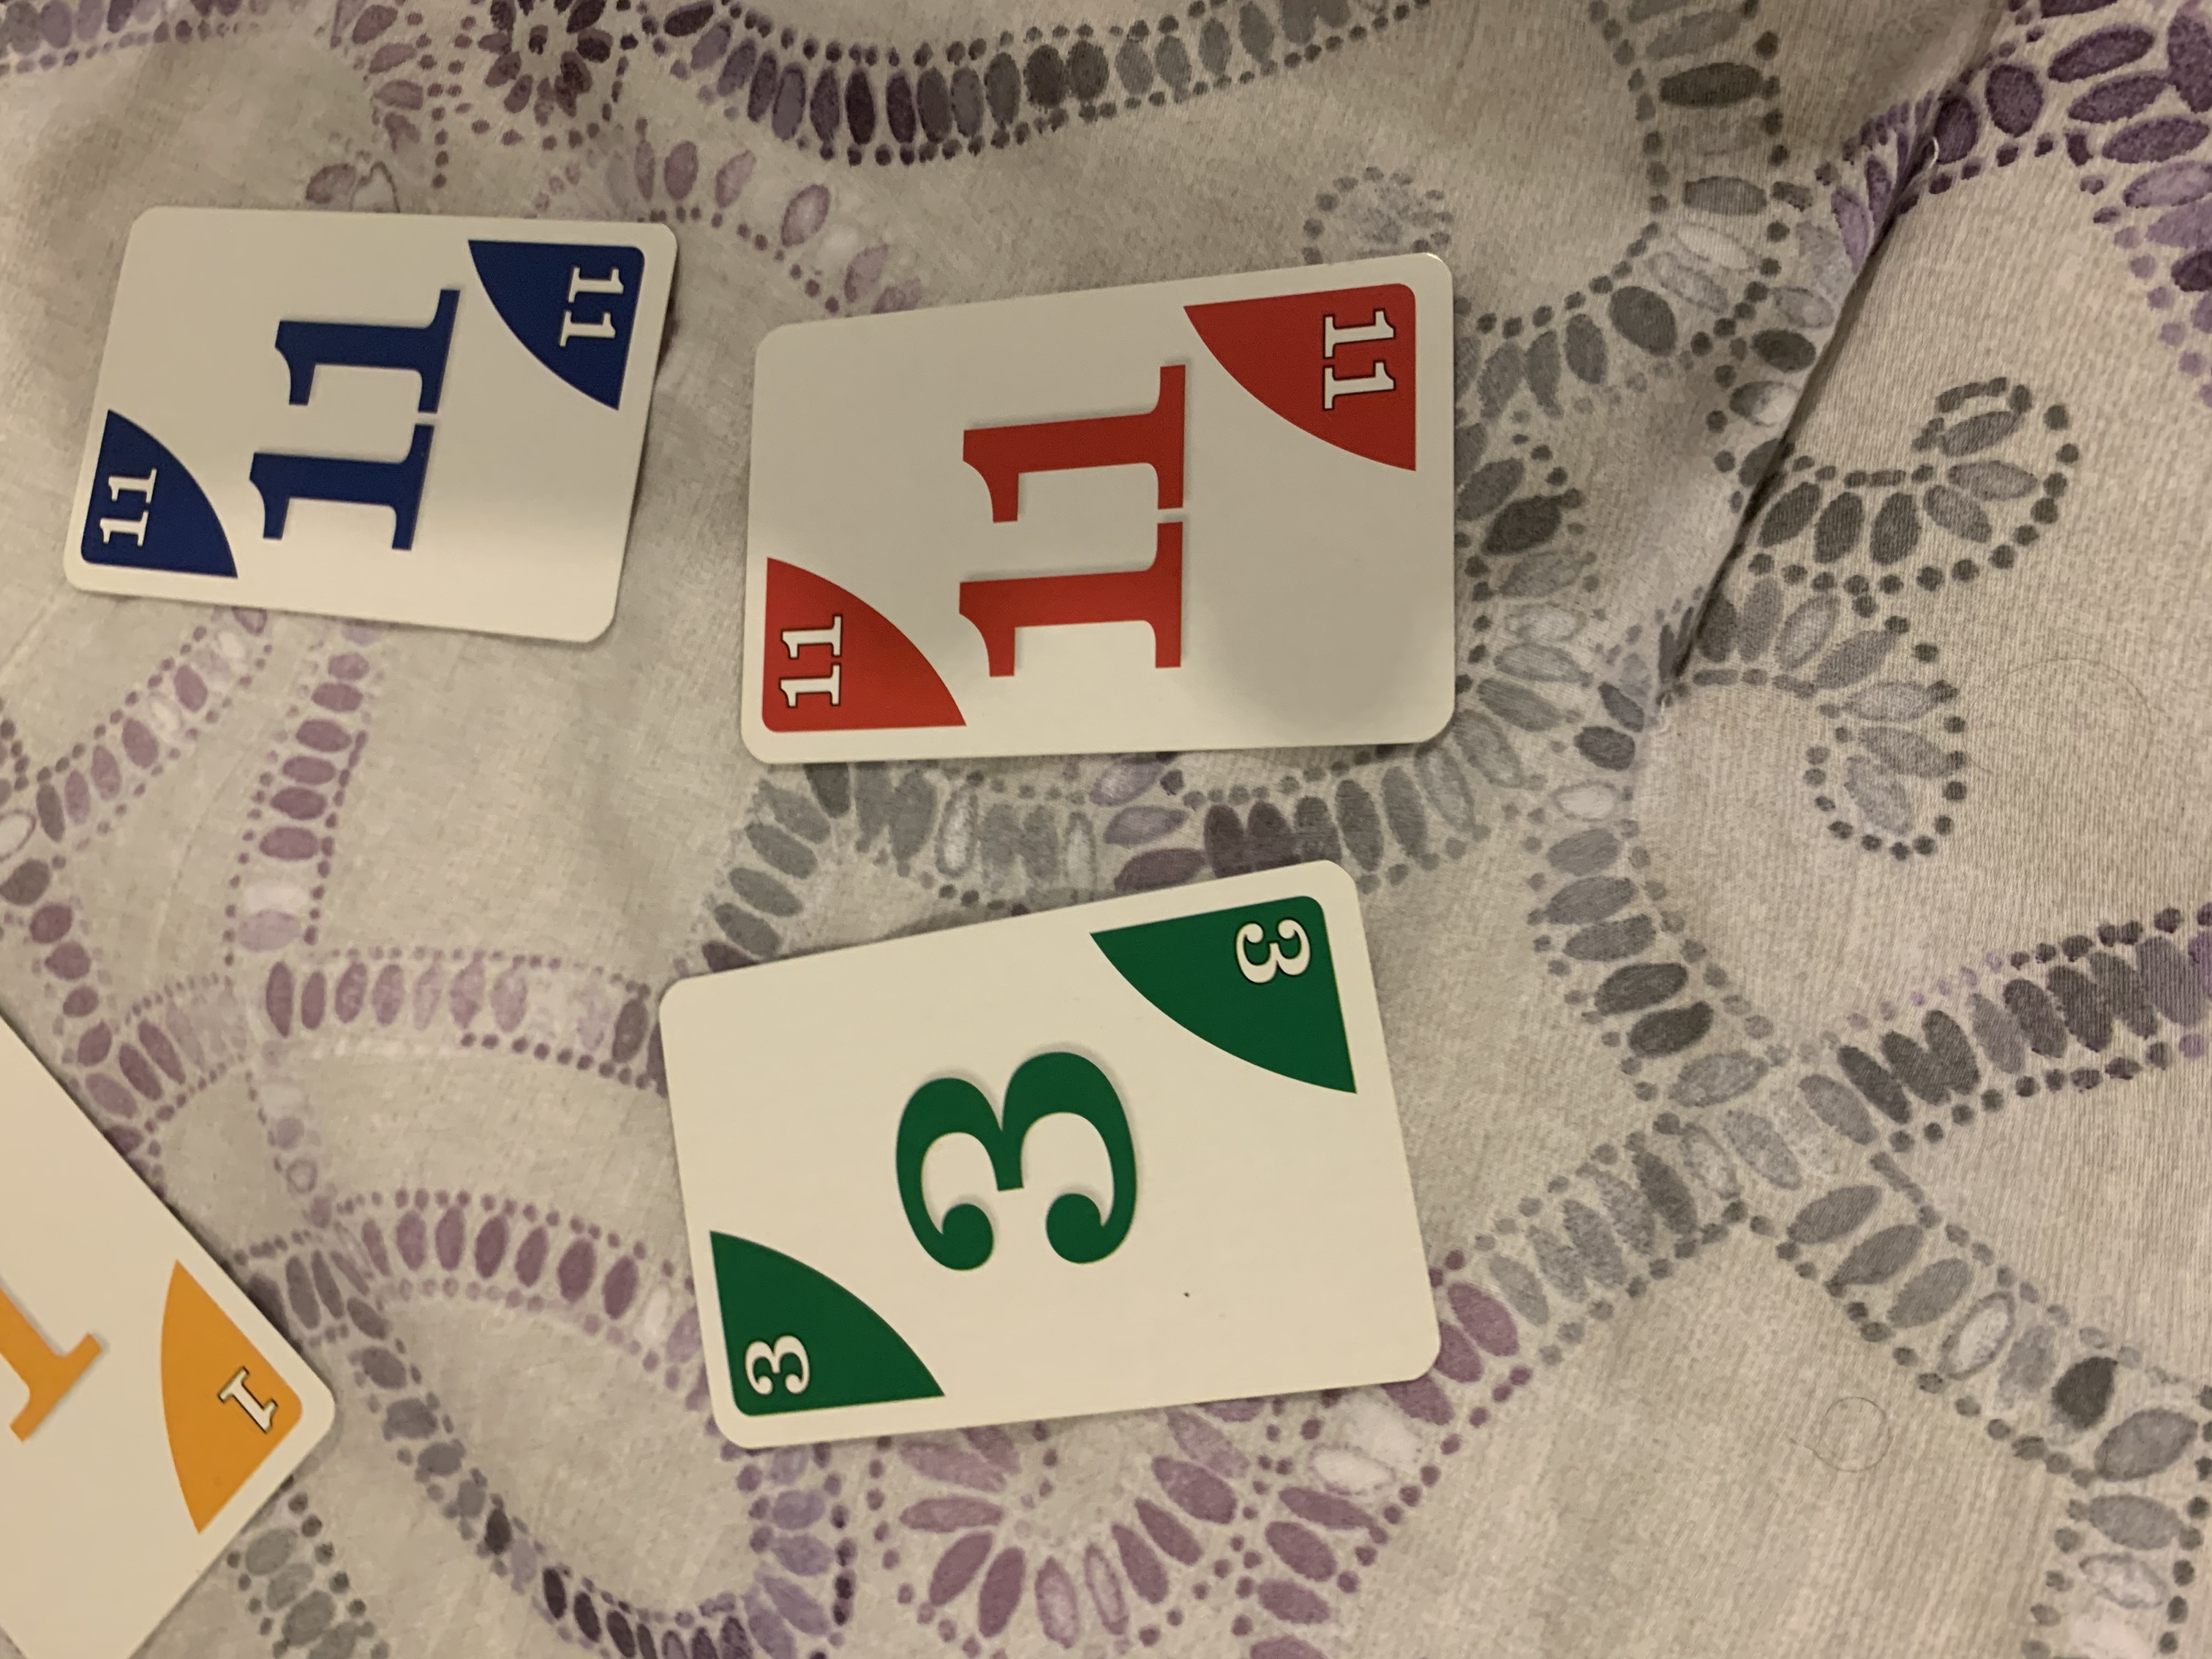eleven: (737, 246, 1465, 777), (59, 197, 683, 650)
three: (636, 856, 1447, 1453)
